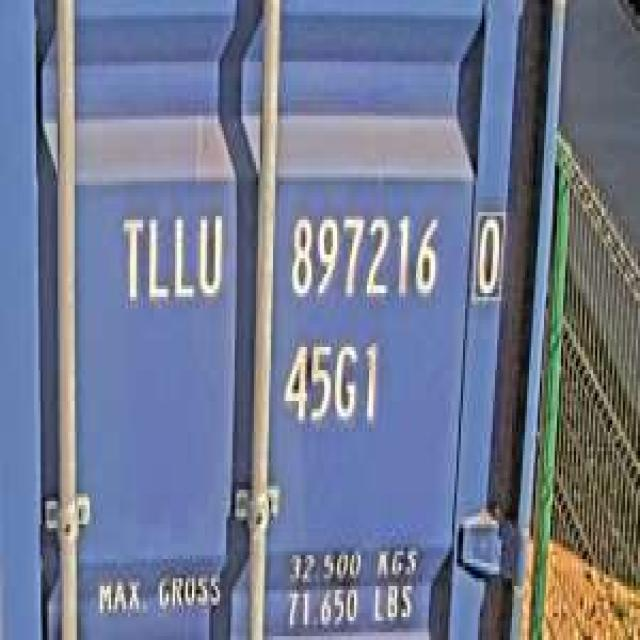dv: (469, 196, 508, 308)
owner: (113, 200, 226, 312)
serial: (282, 200, 444, 308)
size: (277, 332, 382, 432)
